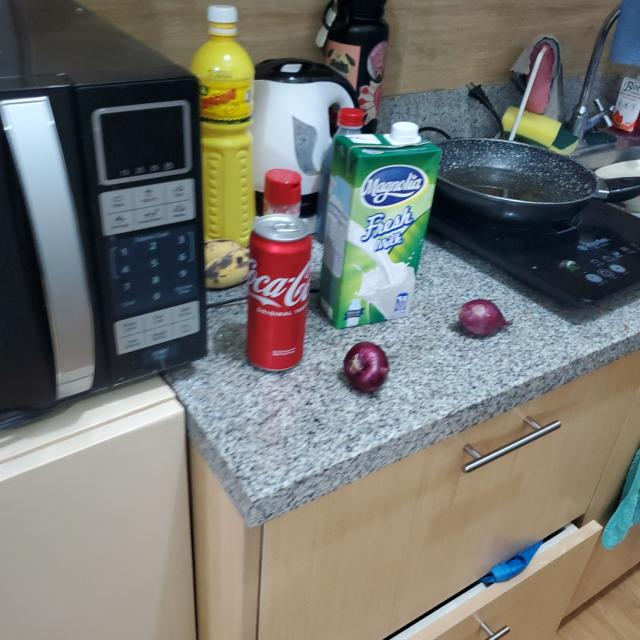coke: (243, 215, 315, 372)
milk: (319, 121, 440, 332)
onion: (342, 335, 392, 400), (458, 297, 510, 335)
